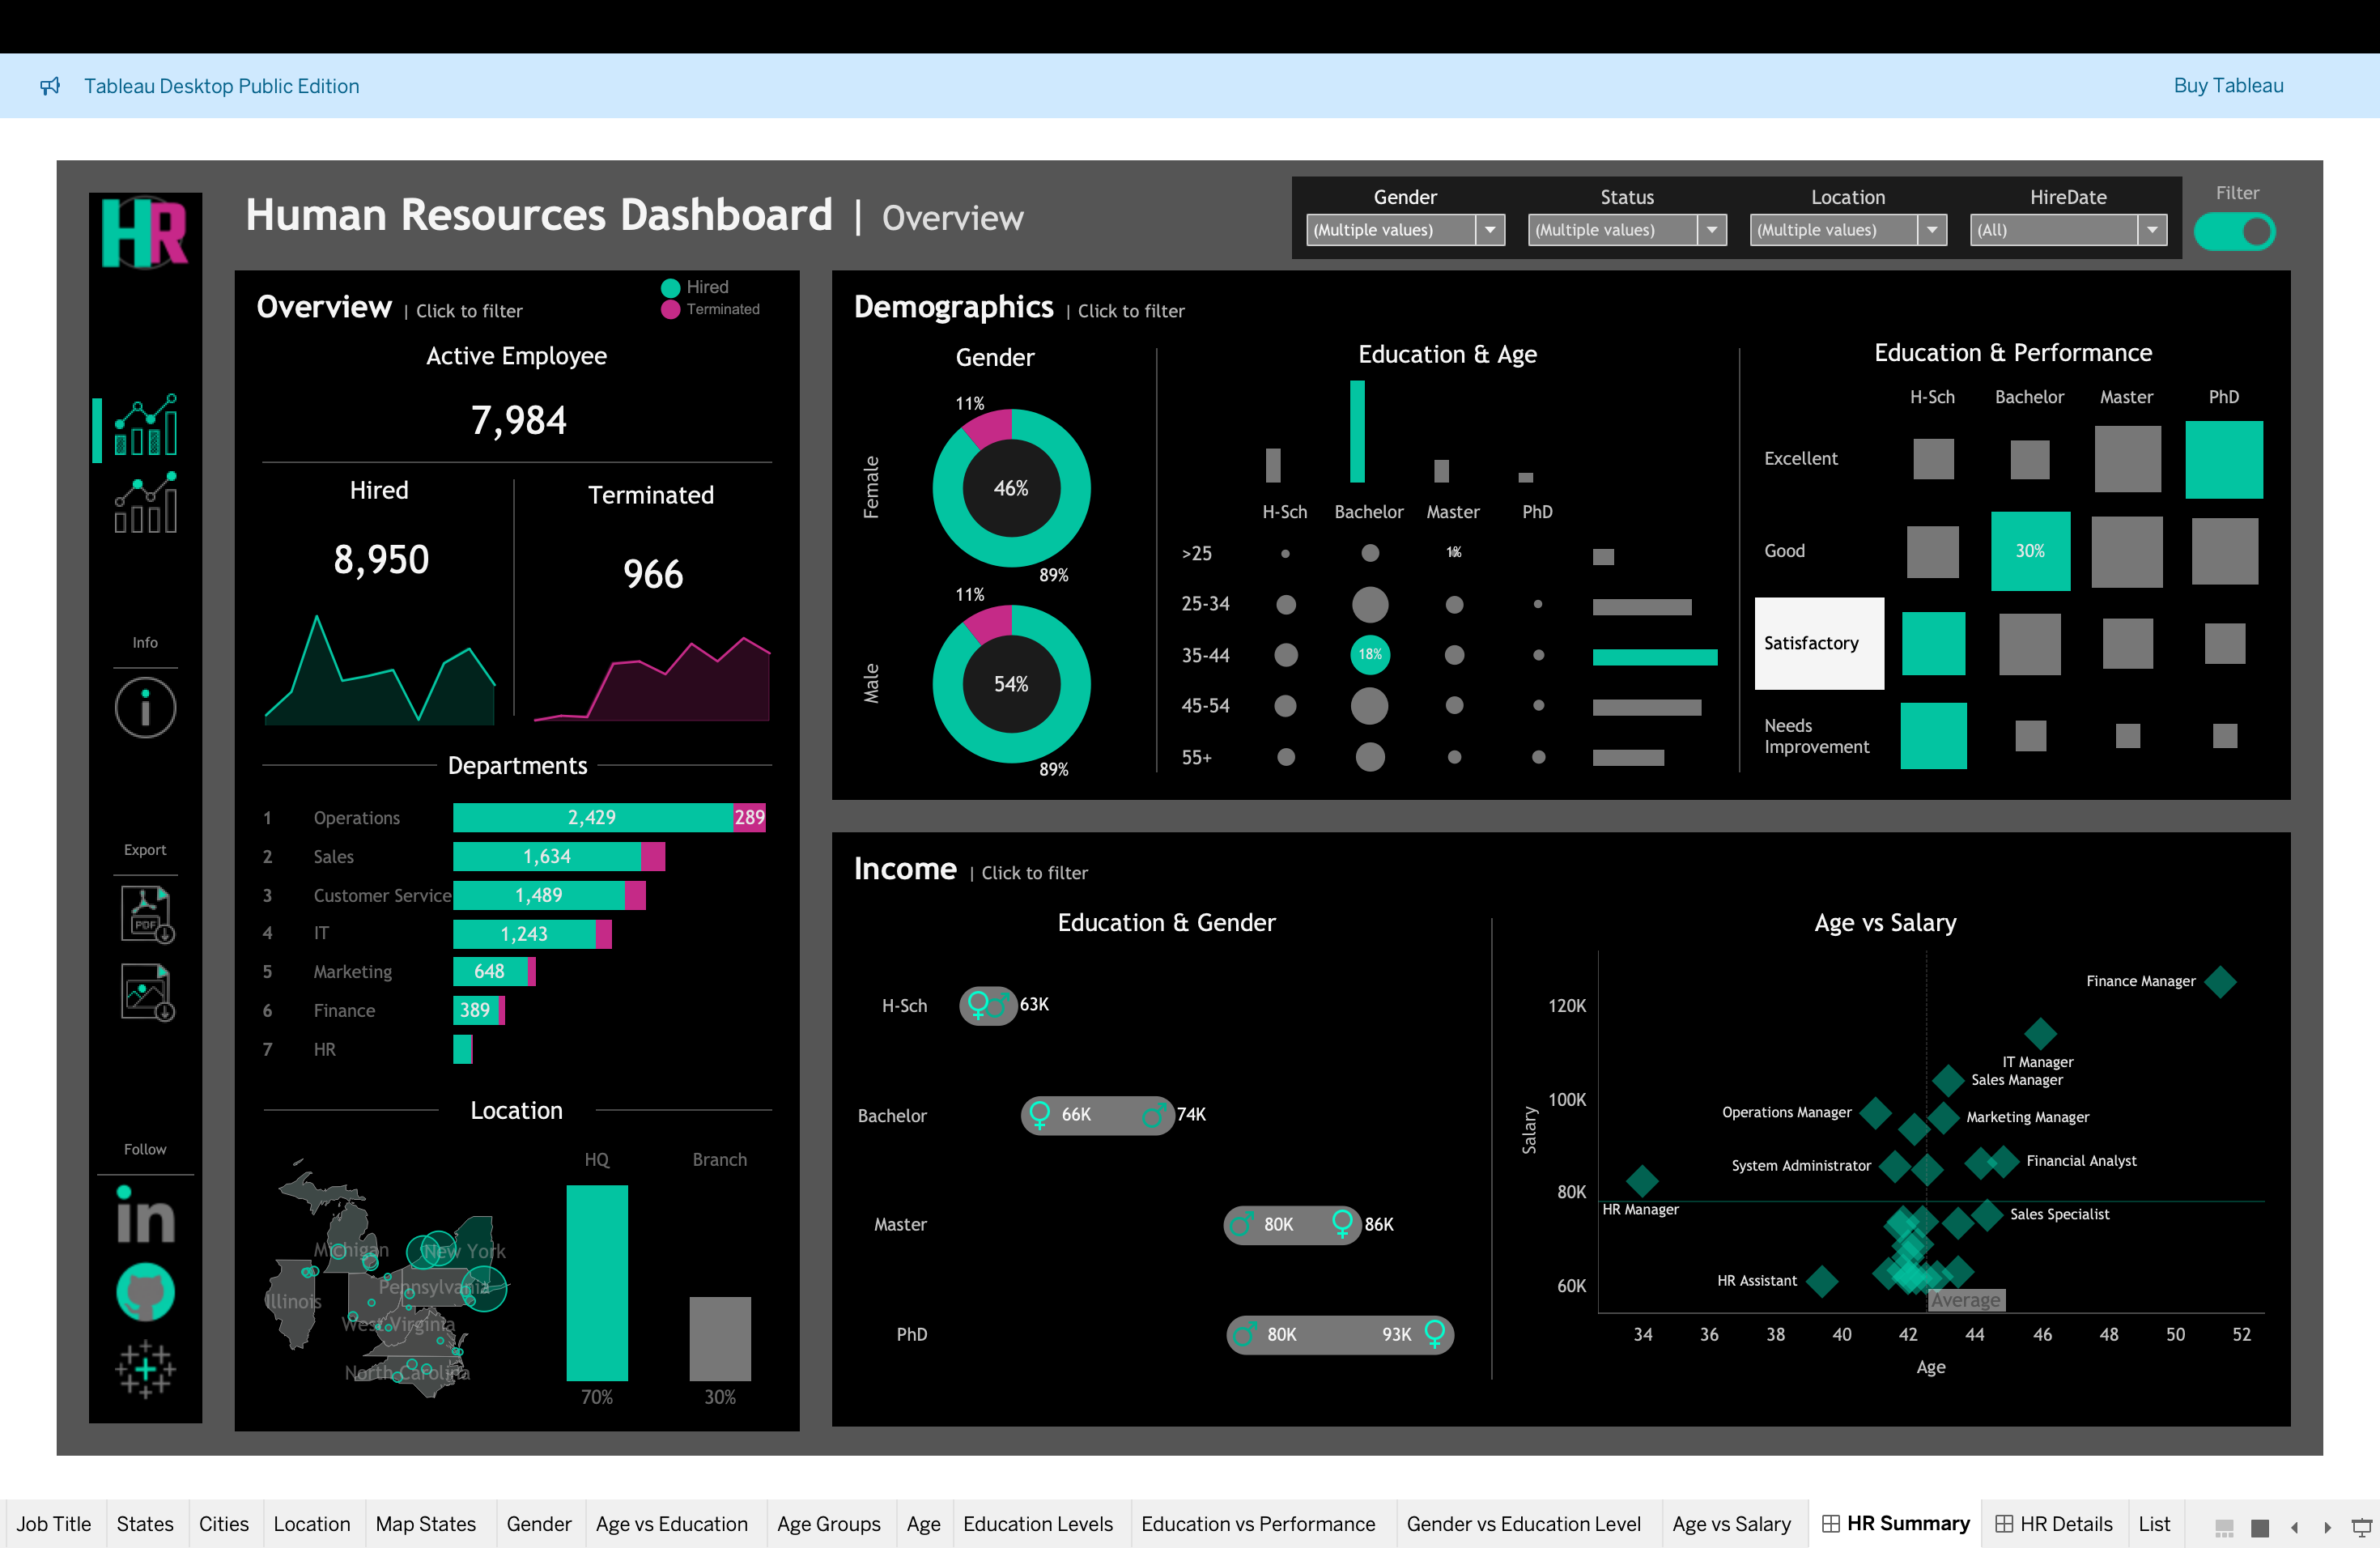

This screenshot's page, from the dashboard's own definition file:
{"tool":"tableau","page":{"name":"HR Summary","canvas":[1400,800],"ordinal":1},"visuals":[{"type":"blank","box":[91,0,1304,331]},{"type":"text","box":[110,0,673,68]},{"type":"blank","box":[783,0,597,68]},{"type":"text","box":[1319,5,57,30]},{"type":"filter","title":"Gender vs Education Level","param":"[federated.1gel2bj0v5inyw14bz6ku1v3p04s].[none:Gender:nk]","box":[765,12,137,47]},{"type":"filter","title":"Gender vs Education Level","param":"[federated.1gel2bj0v5inyw14bz6ku1v3p04s].[none:Calculation_1382323625277456384:n","box":[902,12,137,47]},{"type":"filter","title":"Gender vs Education Level","param":"[federated.1gel2bj0v5inyw14bz6ku1v3p04s].[none:Calculation_1192046540937732101:n","box":[1039,12,136,47]},{"type":"filter","title":"Gender vs Education Level","param":"[federated.1gel2bj0v5inyw14bz6ku1v3p04s].[yr:Hiredate:ok]","box":[1175,12,136,47]},{"type":"image","param":"Image/Logo.png","box":[20,20,70,49]},{"type":"dashboard-object","box":[1319,21,52,46]},{"type":"blank","box":[20,69,70,65]},{"type":"text","box":[370,70,79,30]},{"type":"text","box":[117,75,335,31]},{"type":"text","box":[486,75,887,31]},{"type":"text","box":[117,106,335,30]},{"type":"text","box":[486,106,188,32]},{"type":"blank","box":[679,106,1,282]},{"type":"text","box":[685,106,349,23]},{"type":"blank","box":[1039,106,1,282]},{"type":"text","box":[1045,106,328,26]},{"type":"worksheet","title":"Education Levels","mark":"Bar","rows":["Calculation_1192046540930519040"],"cols":["Education Level"],"box":[685,129,349,74]},{"type":"worksheet","title":"Education vs Performance","mark":"Square","rows":["Performance Rating"],"cols":["Education Level"],"box":[1045,132,328,256]},{"type":"worksheet","title":"Ban Active","mark":"Text","box":[117,136,335,50]},{"type":"worksheet","title":"Gender","mark":"Pie","rows":["Gender"],"cols":["Calculation_1224908744476057601","Calculation_1224908744476057601"],"box":[486,138,188,250]},{"type":"dashboard-object","box":[30,144,50,38]},{"type":"blank","box":[22,147,6,40]},{"type":"blank","box":[30,182,50,10]},{"type":"blank","box":[117,186,335,1]},{"type":"text","box":[117,187,165,34]},{"type":"blank","box":[282,187,1,166]},{"type":"text","box":[283,187,169,39.5]},{"type":"dashboard-object","box":[30,192,50,38]},{"type":"worksheet","title":"Age vs Education","mark":"Circle","rows":["Calculation_1224908744479186948"],"cols":["Education Level"],"box":[685,203,260,185]},{"type":"worksheet","title":"Age Groups","mark":"Bar","rows":["Calculation_1224908744479186948"],"cols":["Calculation_1192046540930519040"],"box":[945,203,89,185]},{"type":"worksheet","title":"Ban Hired","mark":"Text","box":[117,221,165,52]},{"type":"worksheet","title":"Ban Terminated","mark":"Text","box":[283,226.5,169,60.4]},{"type":"blank","box":[30,230,50,58.3]},{"type":"worksheet","title":"Hired By Year","mark":"Line","rows":["Calculation_1192046540930519040","Calculation_1192046540930519040"],"cols":["Hiredate"],"box":[117,273,165,80]},{"type":"worksheet","title":"Terminated By Year","mark":"Line","rows":["Calculation_1192046540930928641","Calculation_1192046540930928641"],"cols":["Termdate"],"box":[283,286.8,169,66.2]},{"type":"text","box":[30,288.3,50,20]},{"type":"blank","box":[30,308.3,50,11]},{"type":"dashboard-object","box":[30,319.3,50,38]},{"type":"text","box":[91,331,1304,224]},{"type":"blank","box":[30,357.3,50,58.3]},{"type":"blank","box":[127,358,107.7,32]},{"type":"text","box":[234.7,358,99.7,32]},{"type":"blank","box":[334.3,358,107.7,32]},{"type":"worksheet","title":"Departments","mark":"Bar","rows":["Calculation_1192046540937089028","Department"],"cols":["Calculation_1192046540930519040"],"box":[117,390,335,175]},{"type":"text","box":[30,415.7,50,20]},{"type":"text","box":[486,422,887,31]},{"type":"blank","box":[30,435.7,50,11]},{"type":"dashboard-object","box":[30,446.7,50,38]},{"type":"text","box":[491,458,390,26]},{"type":"blank","box":[886,458,1,305]},{"type":"text","box":[892,458,476,26]},{"type":"worksheet","title":"Gender vs Education Level","mark":"Square","rows":["Education Level"],"cols":["Salary","Salary"],"box":[491,484,390,279]},{"type":"worksheet","title":"Age vs Salary","mark":"Shape","rows":["Salary"],"cols":["Calculation_1224908744478728195"],"box":[892,484,476,279]},{"type":"blank","box":[30,484.7,50,10]},{"type":"dashboard-object","box":[30,494.7,50,38]},{"type":"blank","box":[30,532.7,50,58.3]},{"type":"blank","box":[91,555,1304,245]},{"type":"blank","box":[127,570,109,33]},{"type":"text","box":[236,570,97,33]},{"type":"blank","box":[333,570,109,33]},{"type":"text","box":[20,601,70,20]},{"type":"worksheet","title":"Map States ","mark":"Automatic","box":[117,603,175,175]},{"type":"worksheet","title":"Location","mark":"Bar","rows":["Calculation_1192046540930519040"],"cols":["Calculation_1192046540937732101","Calculation1"],"box":[292,603,160,175]},{"type":"blank","box":[20,621,70,11]},{"type":"image","param":"Image/contact-linkedin.png","box":[20,632,70,38]},{"type":"blank","box":[20,670,70,10]},{"type":"image","param":"Image/ChatGPT Image Jun 21, 2026, 12_20_25 PM.png","box":[20,680,70,38]},{"type":"blank","box":[20,718,70,10]},{"type":"image","param":"Image/contact-public.png","box":[20,728,70,38]}]}

Visuals, with their boxes on the page's 1400x800 design canvas (x1, y1, x2, y2). These are canvas units, not pixel positions in the 2380x1548 screenshot, which may show the page scaled, cropped or inside an application window:
blank: Rect(91, 0, 1395, 331)
text: Rect(110, 0, 783, 68)
blank: Rect(783, 0, 1380, 68)
text: Rect(1319, 5, 1376, 35)
"Gender vs Education Level" filter: Rect(765, 12, 902, 59)
"Gender vs Education Level" filter: Rect(902, 12, 1039, 59)
"Gender vs Education Level" filter: Rect(1039, 12, 1175, 59)
"Gender vs Education Level" filter: Rect(1175, 12, 1311, 59)
image: Rect(20, 20, 90, 69)
dashboard-object: Rect(1319, 21, 1371, 67)
blank: Rect(20, 69, 90, 134)
text: Rect(370, 70, 449, 100)
text: Rect(117, 75, 452, 106)
text: Rect(486, 75, 1373, 106)
text: Rect(117, 106, 452, 136)
text: Rect(486, 106, 674, 138)
blank: Rect(679, 106, 680, 388)
text: Rect(685, 106, 1034, 129)
blank: Rect(1039, 106, 1040, 388)
text: Rect(1045, 106, 1373, 132)
"Education Levels" worksheet (Bar marks): Rect(685, 129, 1034, 203)
"Education vs Performance" worksheet (Square marks): Rect(1045, 132, 1373, 388)
"Ban Active" worksheet (Text marks): Rect(117, 136, 452, 186)
"Gender" worksheet (Pie marks): Rect(486, 138, 674, 388)
dashboard-object: Rect(30, 144, 80, 182)
blank: Rect(22, 147, 28, 187)
blank: Rect(30, 182, 80, 192)
blank: Rect(117, 186, 452, 187)
text: Rect(117, 187, 282, 221)
blank: Rect(282, 187, 283, 353)
text: Rect(283, 187, 452, 226)
dashboard-object: Rect(30, 192, 80, 230)
"Age vs Education" worksheet (Circle marks): Rect(685, 203, 945, 388)
"Age Groups" worksheet (Bar marks): Rect(945, 203, 1034, 388)
"Ban Hired" worksheet (Text marks): Rect(117, 221, 282, 273)
"Ban Terminated" worksheet (Text marks): Rect(283, 226, 452, 287)
blank: Rect(30, 230, 80, 288)
"Hired By Year" worksheet (Line marks): Rect(117, 273, 282, 353)
"Terminated By Year" worksheet (Line marks): Rect(283, 287, 452, 353)
text: Rect(30, 288, 80, 308)
blank: Rect(30, 308, 80, 319)
dashboard-object: Rect(30, 319, 80, 357)
text: Rect(91, 331, 1395, 555)
blank: Rect(30, 357, 80, 416)
blank: Rect(127, 358, 235, 390)
text: Rect(235, 358, 334, 390)
blank: Rect(334, 358, 442, 390)
"Departments" worksheet (Bar marks): Rect(117, 390, 452, 565)
text: Rect(30, 416, 80, 436)
text: Rect(486, 422, 1373, 453)
blank: Rect(30, 436, 80, 447)
dashboard-object: Rect(30, 447, 80, 485)
text: Rect(491, 458, 881, 484)
blank: Rect(886, 458, 887, 763)
text: Rect(892, 458, 1368, 484)
"Gender vs Education Level" worksheet (Square marks): Rect(491, 484, 881, 763)
"Age vs Salary" worksheet (Shape marks): Rect(892, 484, 1368, 763)
blank: Rect(30, 485, 80, 495)
dashboard-object: Rect(30, 495, 80, 533)
blank: Rect(30, 533, 80, 591)
blank: Rect(91, 555, 1395, 800)
blank: Rect(127, 570, 236, 603)
text: Rect(236, 570, 333, 603)
blank: Rect(333, 570, 442, 603)
text: Rect(20, 601, 90, 621)
"Map States " worksheet: Rect(117, 603, 292, 778)
"Location" worksheet (Bar marks): Rect(292, 603, 452, 778)
blank: Rect(20, 621, 90, 632)
image: Rect(20, 632, 90, 670)
blank: Rect(20, 670, 90, 680)
image: Rect(20, 680, 90, 718)
blank: Rect(20, 718, 90, 728)
image: Rect(20, 728, 90, 766)
